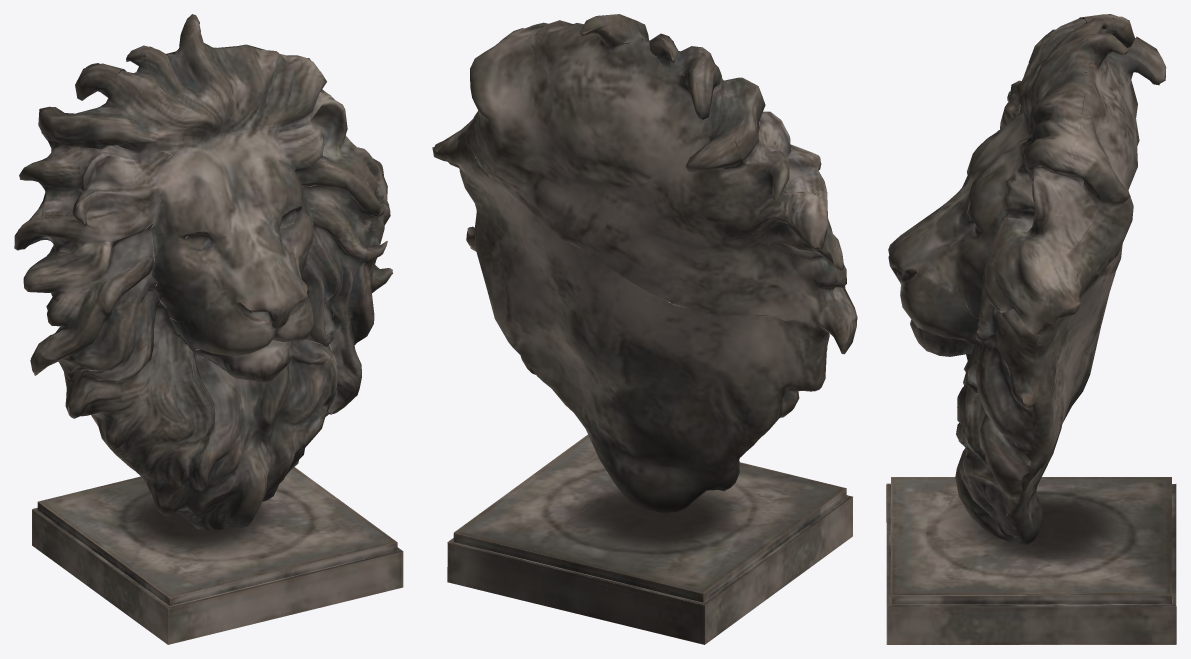
Rendered from ph_lion_head.glb.
3 renders of one model, left to right at view 1: azimuth 30°, elevation 25°; view 2: azimuth 150°, elevation 25°; view 3: azimuth 270°, elevation 25°, orthographic. The views are drawn at different scales.
Parts seen in each view (by area): view 1: lion_head; view 2: lion_head; view 3: lion_head.
Part boxes in pixels (box(x1,y1,x2,y2)): lion_head: box(14, 14, 403, 644); lion_head: box(432, 14, 857, 644); lion_head: box(886, 14, 1176, 644).
Size of the model in its own units: 0.3208 by 0.4363 by 0.2068.
Materials: 1 (1 with a texture image).
